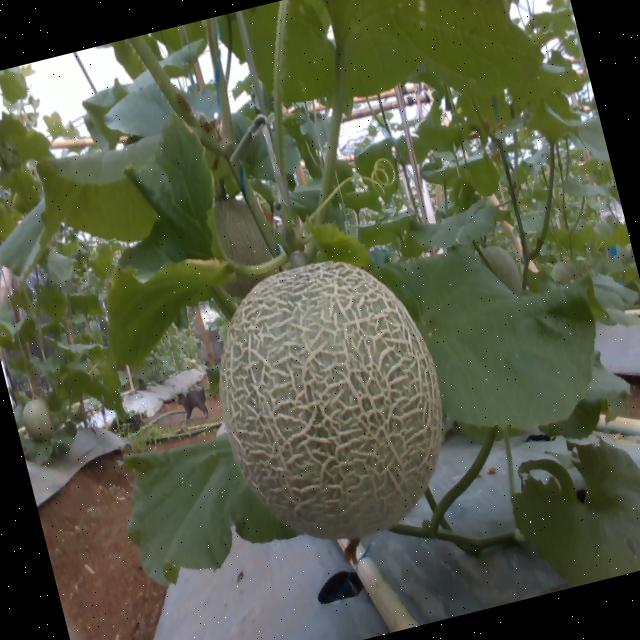melon: (220, 261, 442, 538)
